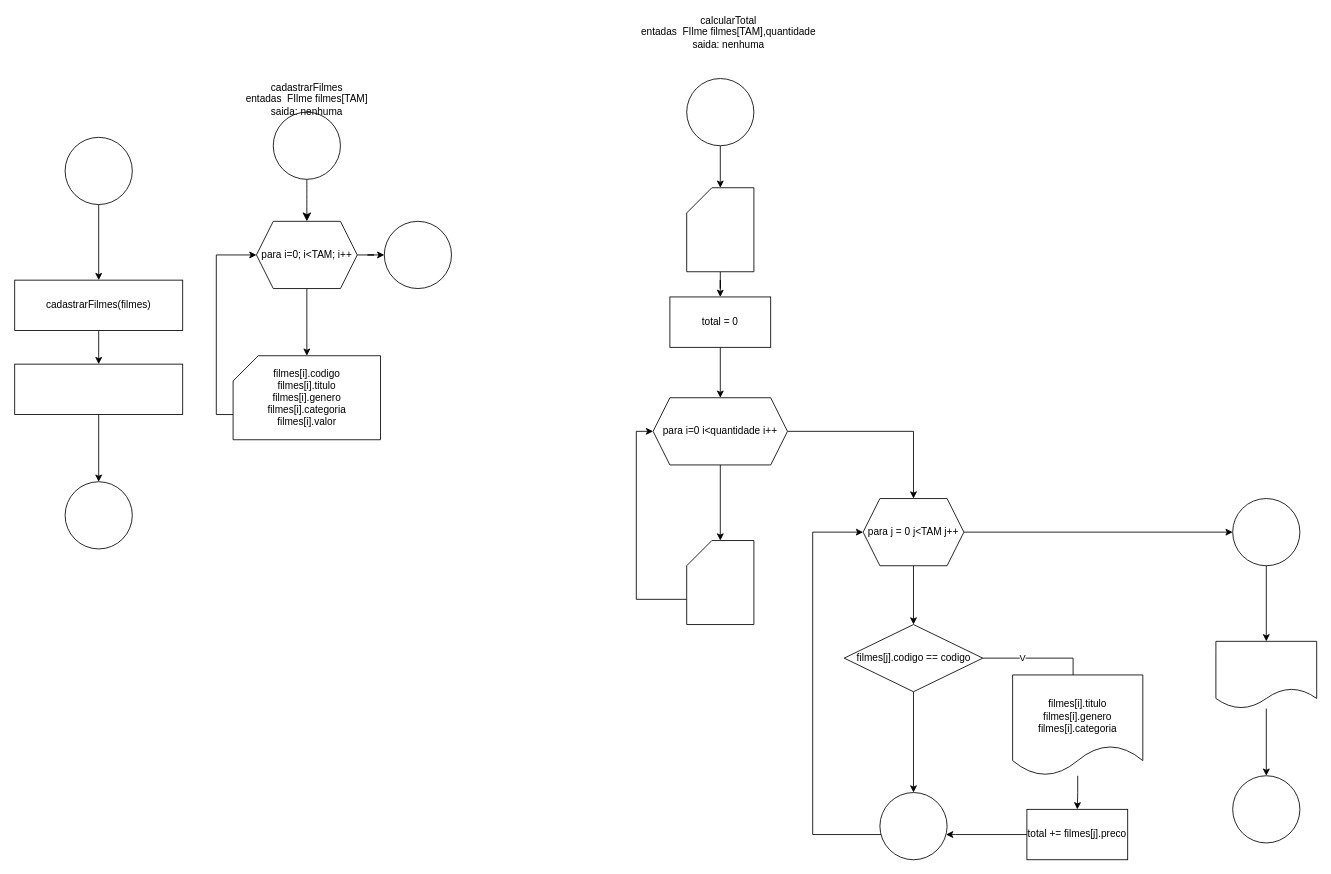
The diagram is 1331 pixels wide and 874 high, and some of its shapes have lost their labels. The shapes that lost their labels are listed below. From the top down, each one's centre as x and y in pixels, then its label:
At [720,229]: "quantidade".
At [98,389]: "calcularLocacao(filmes)".
At [720,582]: "codigo".
At [1266,674]: "total".
